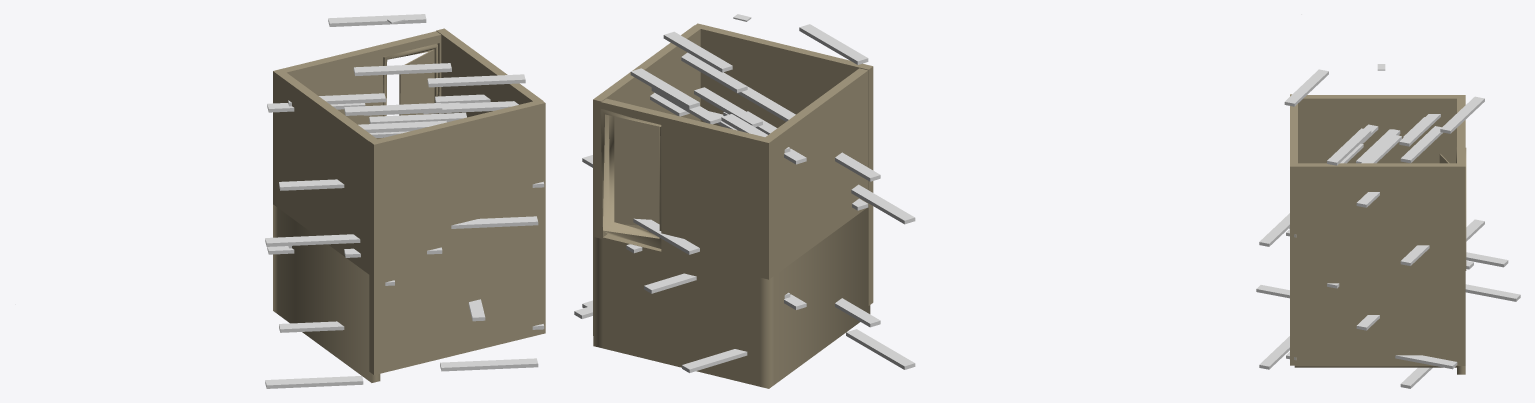
File: Level7.fbx
3 views of the same model, side by side, from view 1: azimuth 30°, elevation 25°; view 2: azimuth 150°, elevation 25°; view 3: azimuth 270°, elevation 25° (orthographic). The views are drawn at different scales.
Parts seen in each view (by area): view 1: Cube.056, Cube.040, Plane.002, Plane, Cube.035, Cube.051; view 2: Cube.040, Cube.056, Plane.002, Cube.035, Cube.051, Plane, Plane.001; view 3: Cube.056, Cube.040, Plane.002, Plane.001, Plane, Cube.047, Cube.051.
Part boxes in pixels (box(x1,y1,x2,y2)): Cube.056: box(369, 28, 545, 374); Cube.040: box(273, 31, 441, 382); Plane.002: box(265, 14, 544, 246); Plane: box(265, 246, 544, 388); Cube.035: box(399, 50, 433, 115); Cube.051: box(383, 43, 439, 137); Cube.040: box(593, 68, 870, 388); Cube.056: box(593, 23, 873, 335); Plane.002: box(582, 24, 915, 224); Cube.035: box(614, 116, 659, 225); Cube.051: box(600, 109, 661, 248); Plane: box(582, 198, 915, 369); Plane.001: box(574, 244, 747, 372); Cube.056: box(1290, 94, 1465, 365); Cube.040: box(1298, 95, 1465, 374); Plane.002: box(1259, 69, 1484, 265); Plane.001: box(1256, 252, 1520, 369); Plane: box(1259, 219, 1484, 388); Cube.047: box(1294, 366, 1456, 367); Cube.051: box(1456, 147, 1466, 270).
Bounding box in the file's own units: 61.86 × 33.27 × 28.92.
